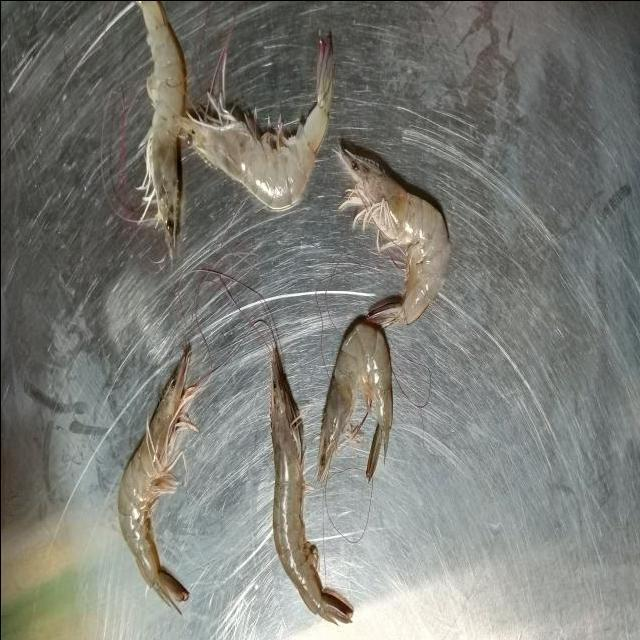shrimp: (179, 36, 334, 208), (269, 348, 352, 622), (118, 348, 199, 609), (336, 146, 449, 326), (138, 0, 185, 257), (318, 321, 391, 483)
